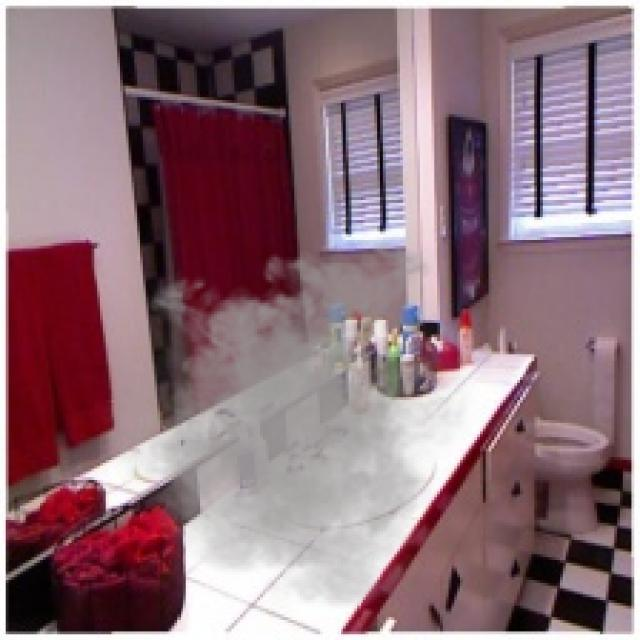Smoke: (91, 232, 488, 614)
